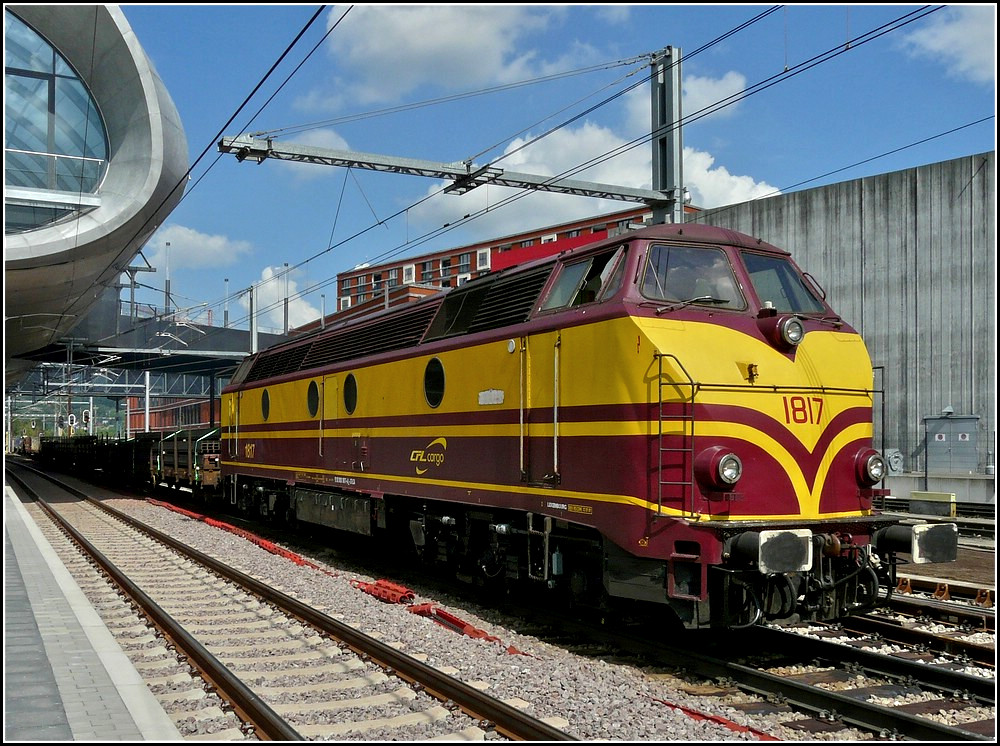train: (41, 218, 961, 653)
